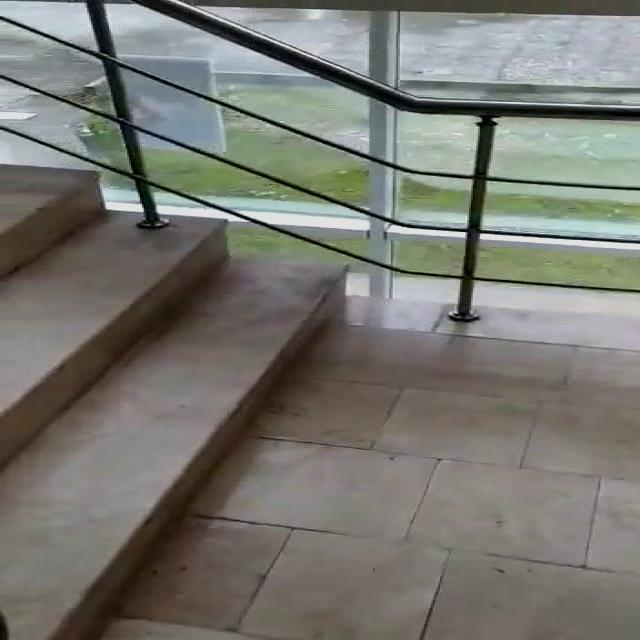stair: (6, 164, 338, 640)
